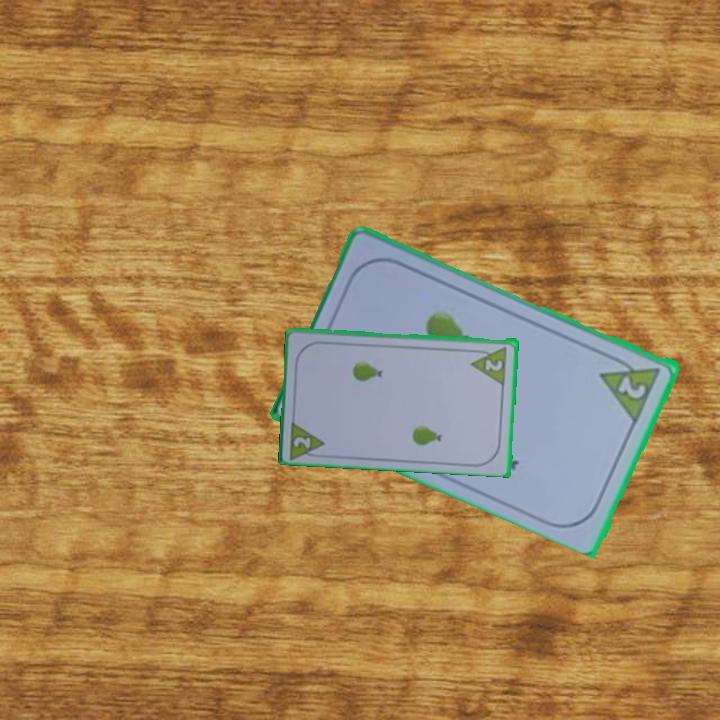2p: (286, 415, 328, 460), (468, 342, 510, 386), (615, 372, 650, 402)
